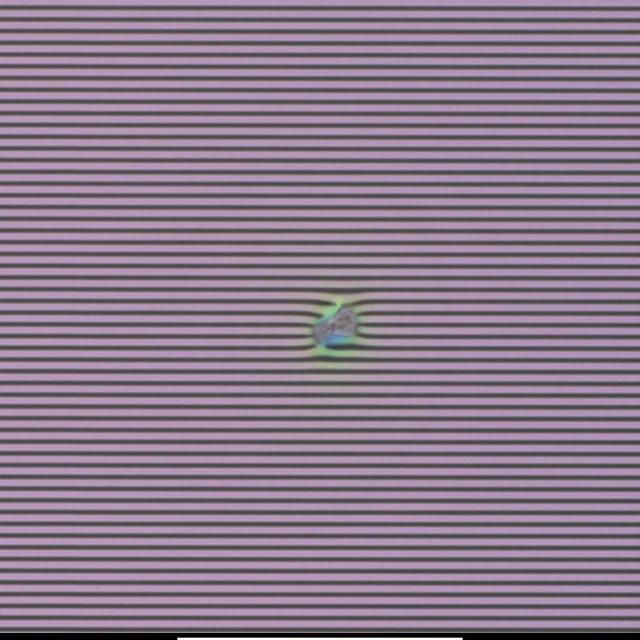03_intrusion: (305, 298, 369, 360)
